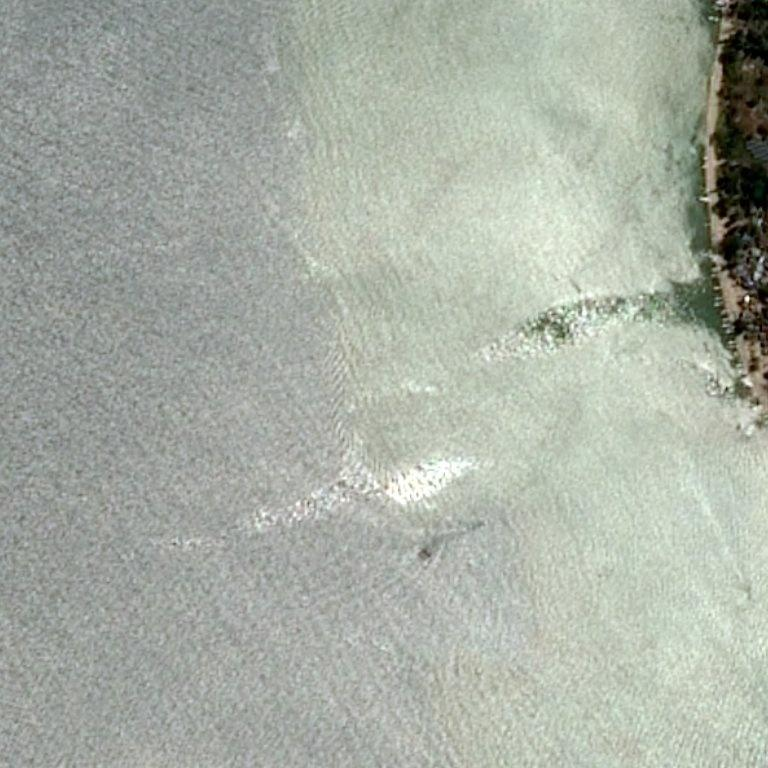ship: (471, 518, 482, 529), (741, 588, 749, 602)
